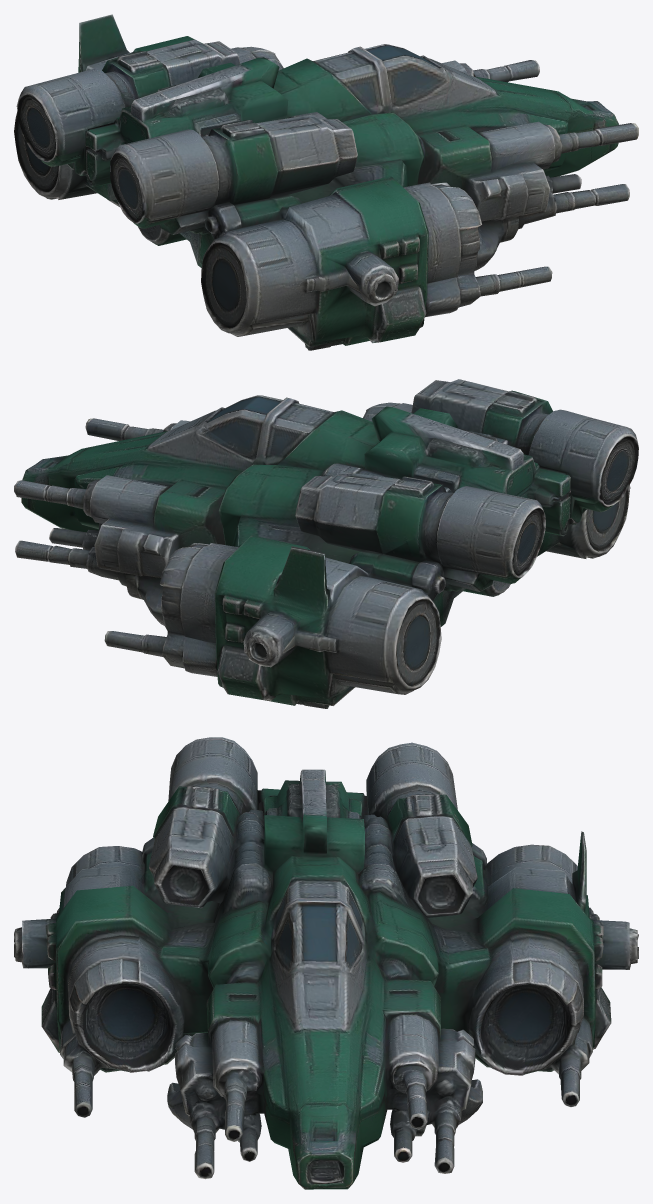
Rendered from player_ship_goliat.glb.
3 renders of one model, top to bottom at view 1: azimuth 30°, elevation 25°; view 2: azimuth 150°, elevation 25°; view 3: azimuth 270°, elevation 25°, orthographic. The views are drawn at different scales.
Parts seen in each view (by area): view 1: tripo_node_03e58b07-be2c-4109-b871-b6a53448bcd5; view 2: tripo_node_03e58b07-be2c-4109-b871-b6a53448bcd5; view 3: tripo_node_03e58b07-be2c-4109-b871-b6a53448bcd5.
Boxes of the visible parts, x1,y1,x2,y2 form: tripo_node_03e58b07-be2c-4109-b871-b6a53448bcd5: (14, 14, 638, 350); tripo_node_03e58b07-be2c-4109-b871-b6a53448bcd5: (14, 379, 638, 708); tripo_node_03e58b07-be2c-4109-b871-b6a53448bcd5: (14, 737, 638, 1189).
Size of the model in its own units: 31.13 by 12 by 29.06.
1 material, 1 textured.
